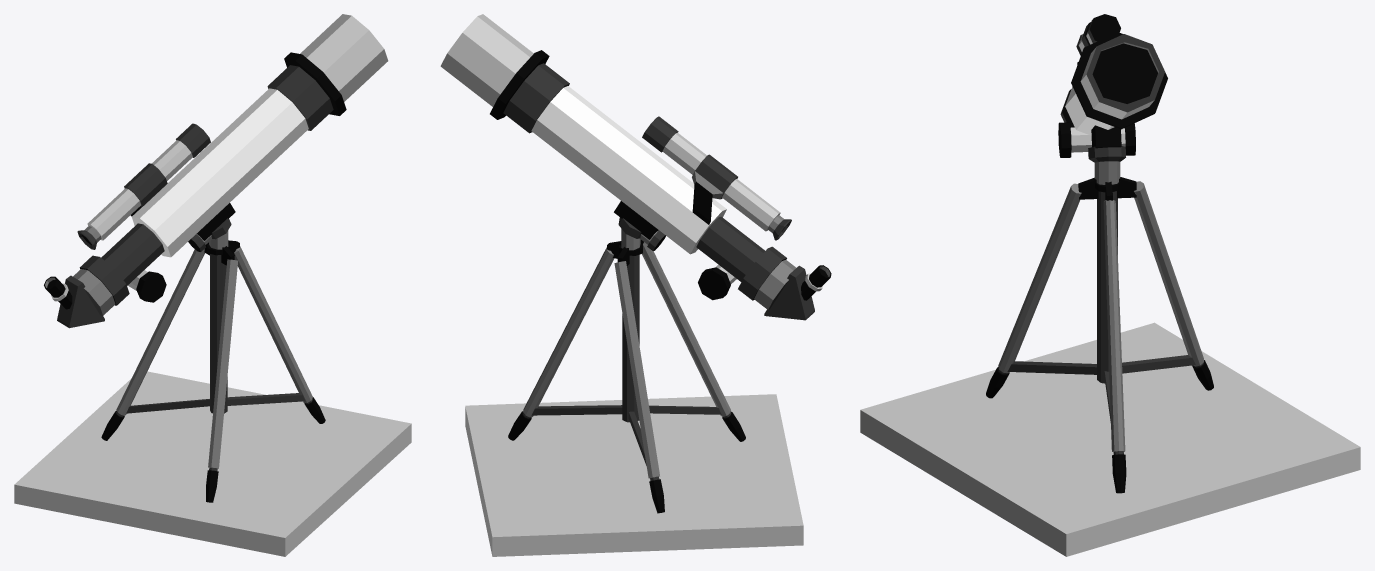
Rendered from Telescopio.gltf.
The picture shows the model from 3 angles, left to right: view 1: azimuth 30°, elevation 25°; view 2: azimuth 150°, elevation 25°; view 3: azimuth 270°, elevation 25°; orthographic projection. The views are drawn at different scales.
Parts seen in each view (by area): view 1: Telescopio; view 2: Telescopio; view 3: Telescopio.
Part boxes in pixels (x1,y1,x2,y2): Telescopio: (14,14,411,556); Telescopio: (440,14,831,556); Telescopio: (860,14,1360,556).
Size of the model in its own units: 1.69 by 1.87 by 1.69.
1 material, 1 textured.
